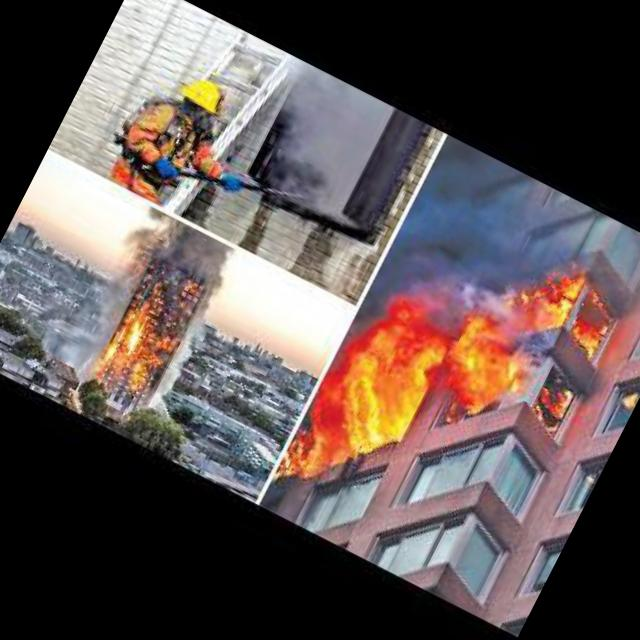fire: (281, 193, 626, 572), (85, 271, 209, 416)
smoke: (373, 134, 574, 348), (238, 52, 402, 212), (142, 244, 258, 426), (58, 199, 172, 370), (115, 195, 253, 304)
